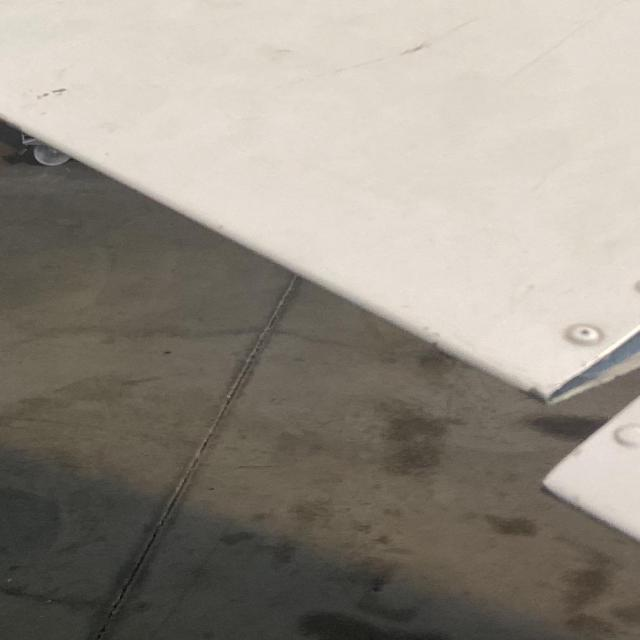Paint-off: (522, 387, 551, 400)
